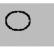no answer: (3, 9, 32, 31)
